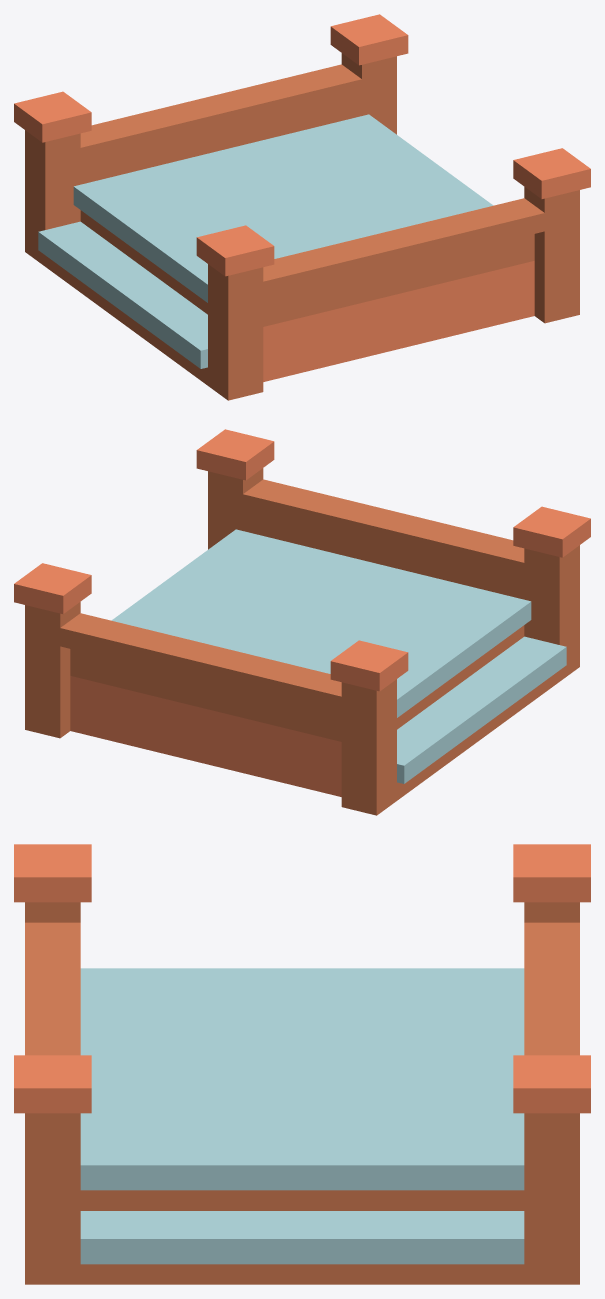
The model's file is bridge-wood.glb.
The picture shows the model from 3 angles, top to bottom: view 1: azimuth 30°, elevation 25°; view 2: azimuth 150°, elevation 25°; view 3: azimuth 270°, elevation 25°; orthographic projection. The views are drawn at different scales.
Parts seen in each view (by area): view 1: bridge_wood; view 2: bridge_wood; view 3: bridge_wood.
Boxes of the visible parts, x1=… form: bridge_wood: x1=14, y1=14, x2=590, y2=400; bridge_wood: x1=14, y1=429, x2=590, y2=815; bridge_wood: x1=14, y1=844, x2=590, y2=1284.
Size of the model in its own units: 1.04 by 0.4 by 1.04.
